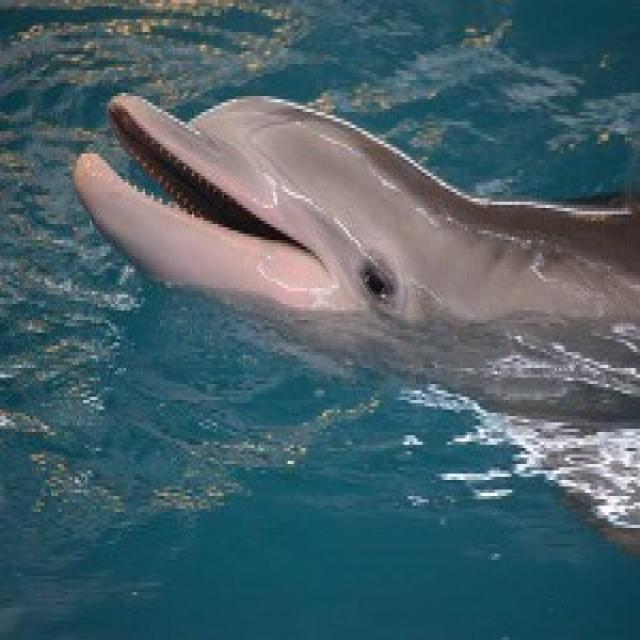Dolphin: (78, 74, 640, 543)
